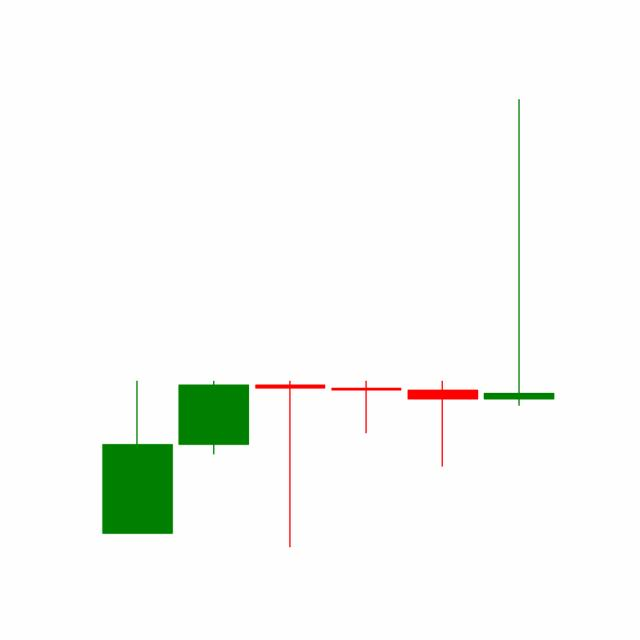Dragonfly Doji: (403, 379, 481, 468)
